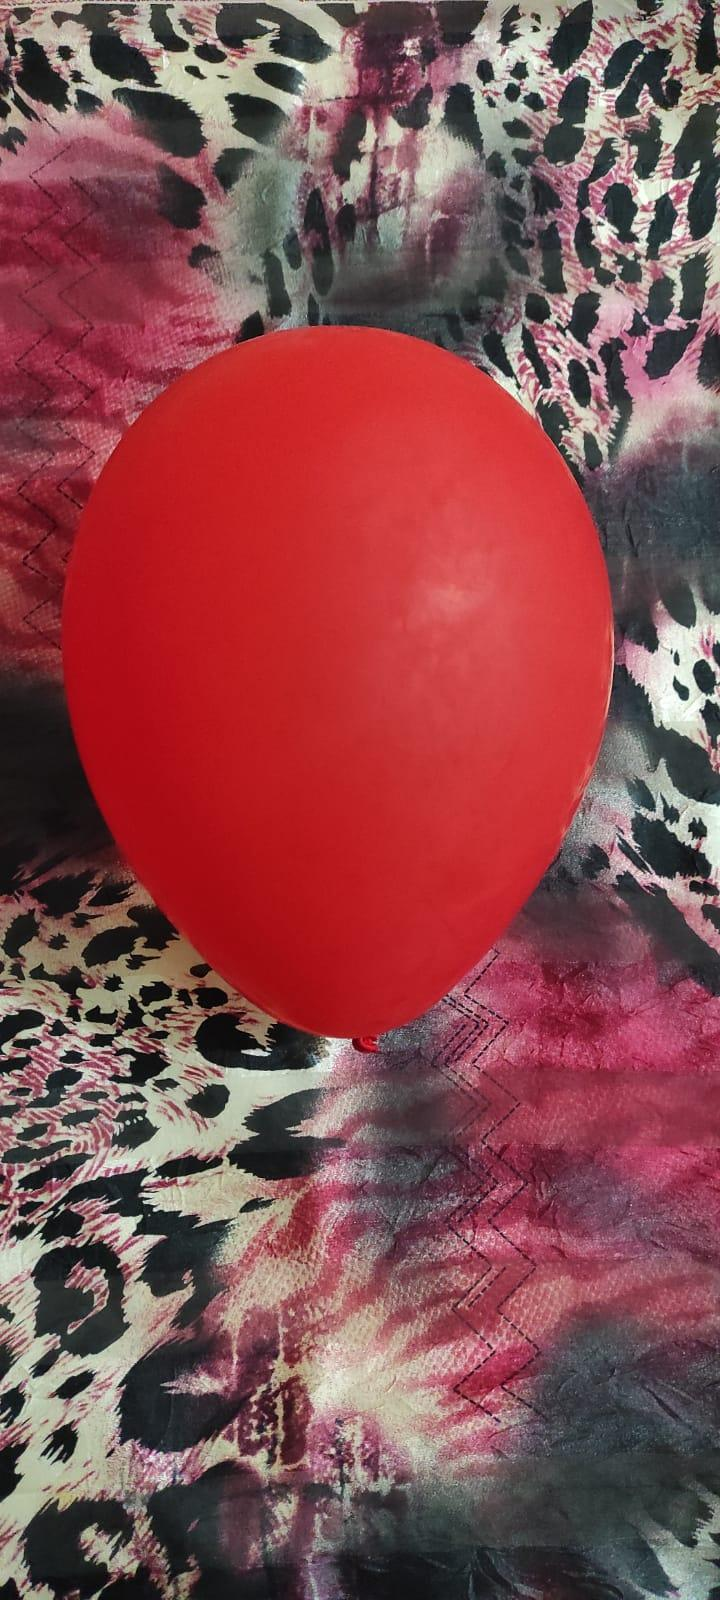red: (51, 317, 619, 1058)
